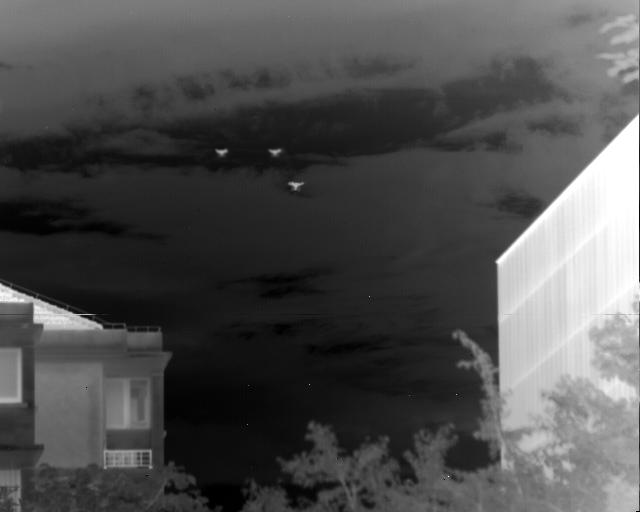plane: (288, 181, 304, 191), (269, 148, 281, 157), (216, 149, 227, 156)
